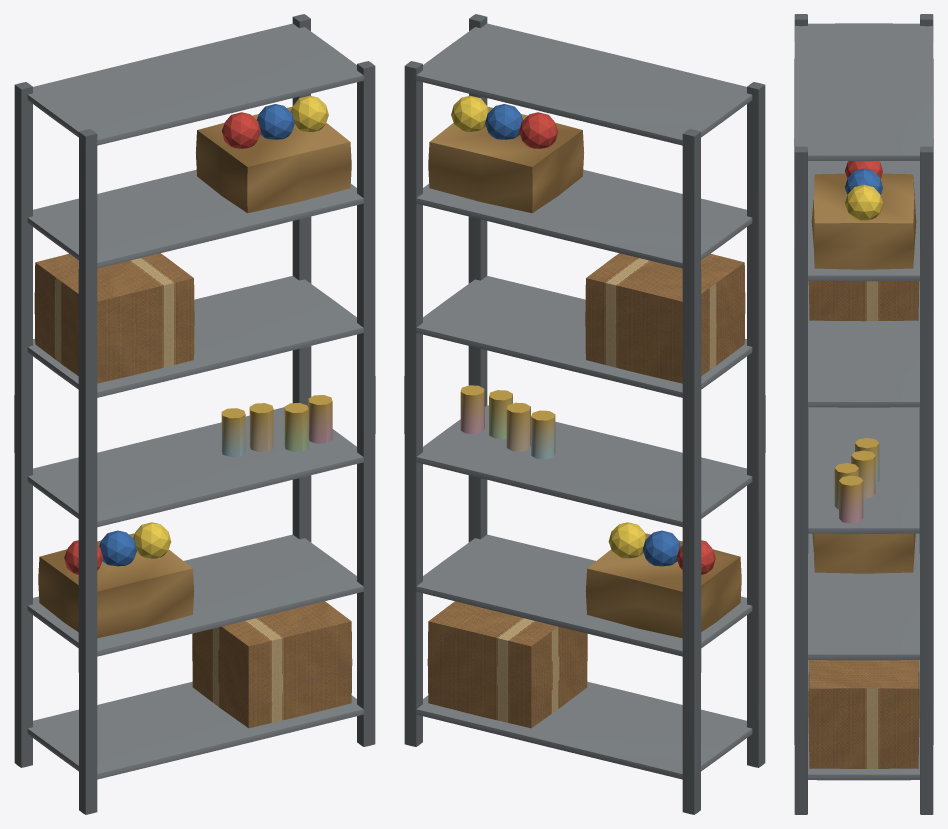
Rendered from utility_shelving.glb.
The picture shows the model from 3 angles, left to right: view 1: azimuth 30°, elevation 25°; view 2: azimuth 150°, elevation 25°; view 3: azimuth 270°, elevation 25°; orthographic projection. The views are drawn at different scales.
Parts seen in each view (by area): view 1: post (×4), shelf_5, shelf_2, box_0, box_3, shelf_4, shelf_1, shelf_0, shelf_3, basket_4, basket_1, yarn (×5) (+1 smaller); view 2: post (×4), shelf_5, shelf_2, box_0, box_3, shelf_4, shelf_1, shelf_0, shelf_3, basket_4, basket_1, yarn (×5) (+1 smaller); view 3: post (×2), shelf_5, box_0, shelf_2, shelf_1, shelf_3, basket_4, box_3, basket_1, shelf_4, jar (×4), yarn (×3) (+1 smaller).
Boxes of the visible parts, x1=… form: post (×4): x1=14, y1=14, x2=375, y2=814; shelf_5: x1=27, y1=23, x2=364, y2=145; shelf_2: x1=27, y1=407, x2=363, y2=527; box_0: x1=192, y1=601, x2=352, y2=728; box_3: x1=34, y1=253, x2=194, y2=383; shelf_4: x1=27, y1=169, x2=363, y2=268; shelf_1: x1=27, y1=534, x2=363, y2=656; shelf_0: x1=27, y1=681, x2=363, y2=779; shelf_3: x1=27, y1=276, x2=363, y2=397; basket_4: x1=196, y1=106, x2=351, y2=213; basket_1: x1=38, y1=533, x2=194, y2=638; yarn (×5): x1=99, y1=95, x2=328, y2=566; post (×4): x1=404, y1=14, x2=765, y2=814; shelf_5: x1=415, y1=23, x2=752, y2=145; shelf_2: x1=416, y1=405, x2=752, y2=527; box_0: x1=427, y1=601, x2=587, y2=728; box_3: x1=585, y1=253, x2=745, y2=383; shelf_4: x1=416, y1=169, x2=752, y2=268; shelf_1: x1=416, y1=534, x2=752, y2=656; shelf_0: x1=415, y1=681, x2=752, y2=779; shelf_3: x1=416, y1=276, x2=752, y2=397; basket_4: x1=428, y1=106, x2=583, y2=213; basket_1: x1=585, y1=533, x2=741, y2=638; yarn (×5): x1=451, y1=95, x2=680, y2=566; post (×2): x1=794, y1=146, x2=933, y2=814; shelf_5: x1=794, y1=23, x2=933, y2=161; box_0: x1=808, y1=660, x2=919, y2=768; shelf_2: x1=808, y1=407, x2=919, y2=533; shelf_1: x1=808, y1=533, x2=919, y2=660; shelf_3: x1=808, y1=281, x2=919, y2=407; basket_4: x1=811, y1=173, x2=916, y2=269; box_3: x1=808, y1=281, x2=919, y2=321; basket_1: x1=812, y1=533, x2=915, y2=573; shelf_4: x1=794, y1=161, x2=933, y2=281; jar (×4): x1=834, y1=438, x2=879, y2=523; yarn (×3): x1=845, y1=161, x2=882, y2=220.
Size of the model in its own units: 0.94 by 2.1 by 0.4.
4 materials, 1 textured.
